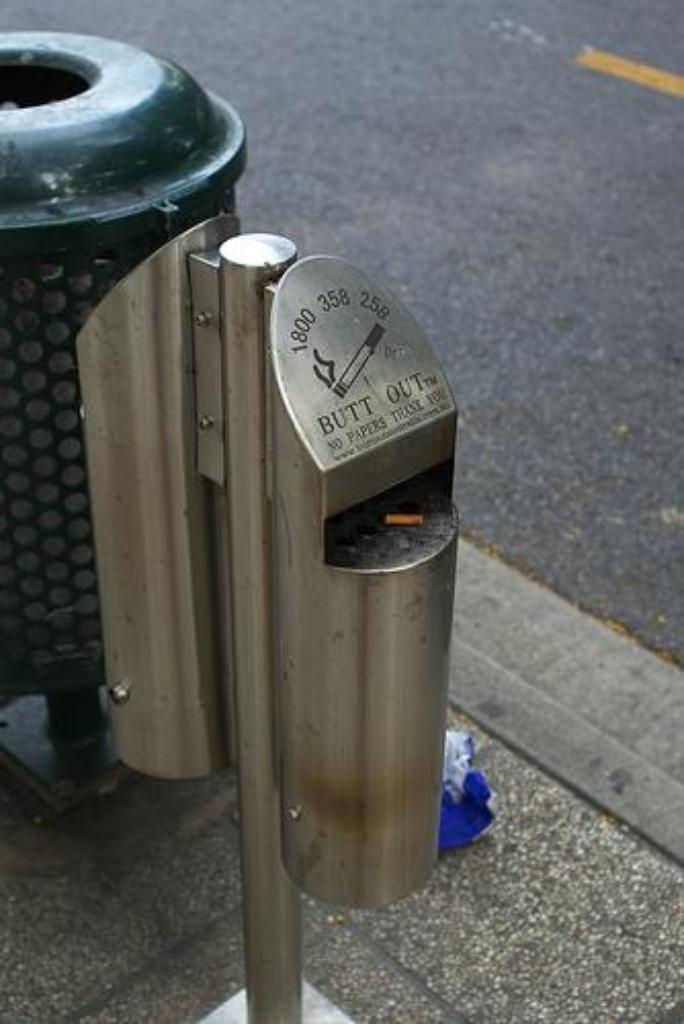dustbin: (68, 205, 474, 1024)
